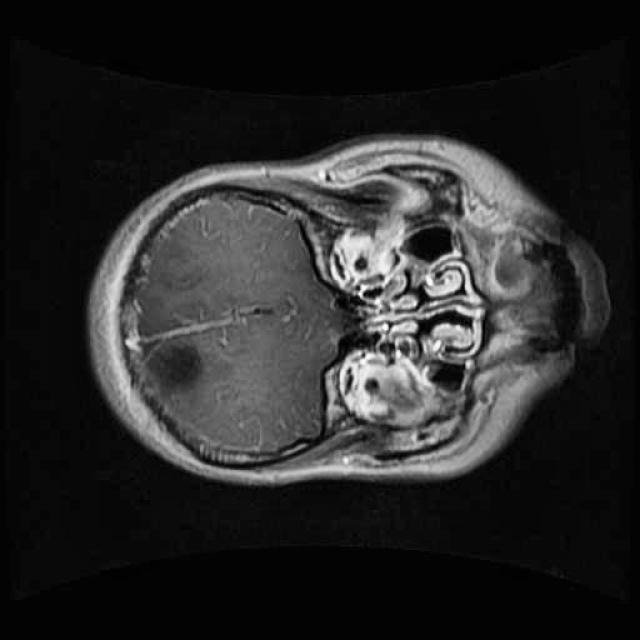Tumor: (128, 323, 220, 408)
